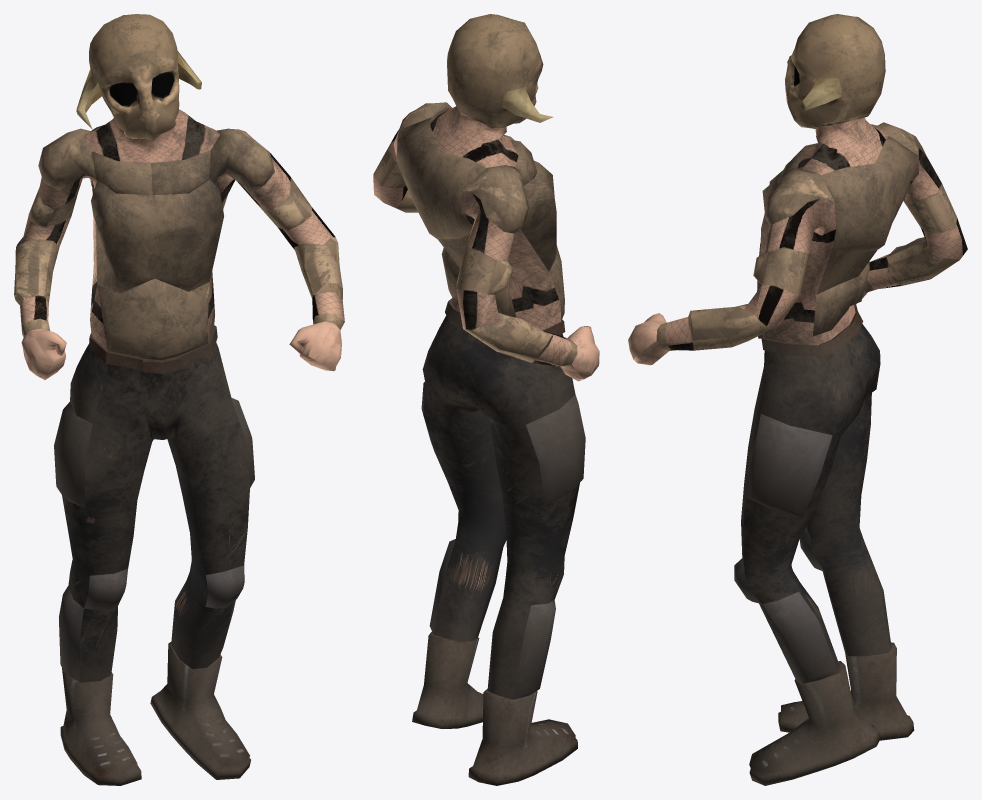
Rendered from Anim_ataque_d1_npc1.0015.obj.
The picture shows the model from 3 angles, left to right: view 1: azimuth 30°, elevation 25°; view 2: azimuth 150°, elevation 25°; view 3: azimuth 270°, elevation 25°; orthographic projection.
Visible parts, largest first — view 1: NPC2; view 2: NPC2; view 3: NPC2.
Part boxes in pixels (bbox=[...]): NPC2: bbox=[14, 14, 344, 785]; NPC2: bbox=[373, 14, 599, 785]; NPC2: bbox=[628, 14, 967, 785].
Bounding box in the file's own units: 3.57 × 9.59 × 4.03.
